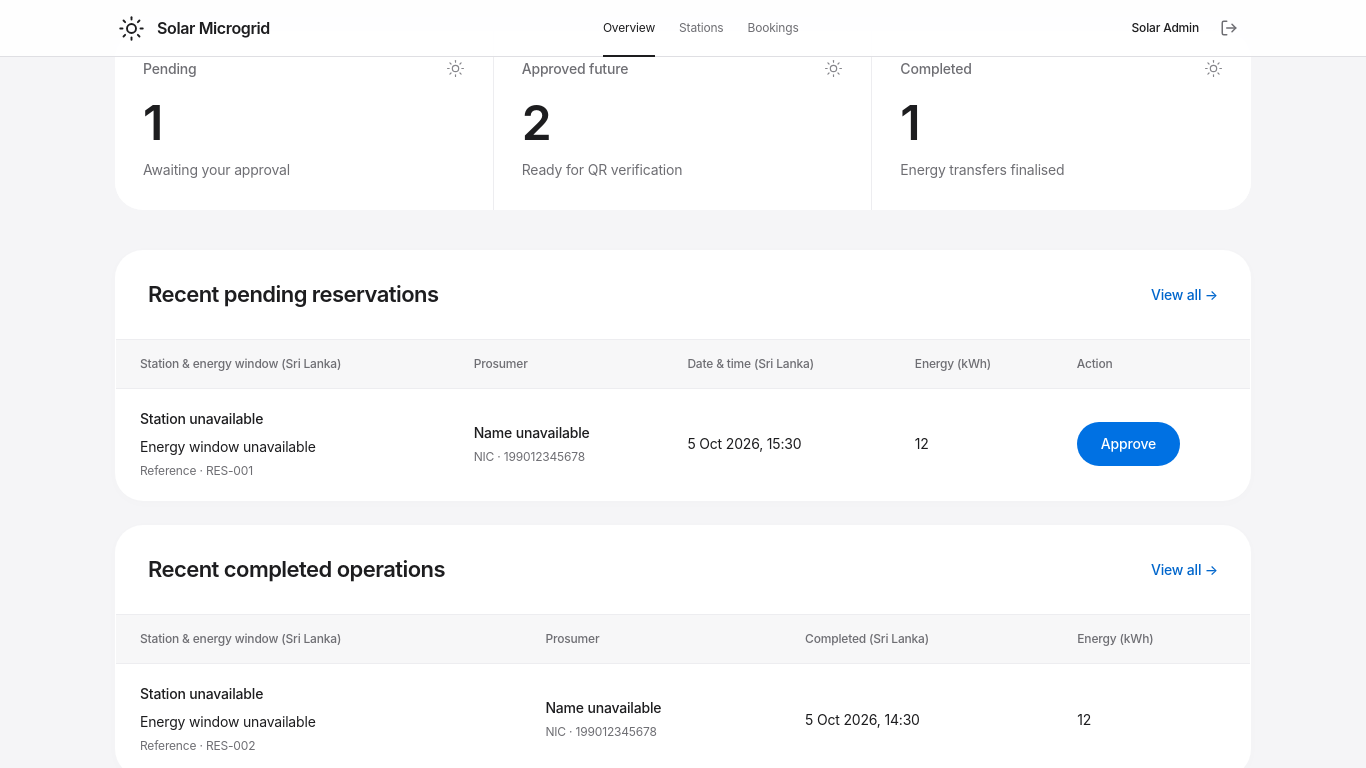
Test: React portal workflows › renders the operator dashboard and submits pending approval with antiforgery
(page scrolled)
expect the text "Reference · RES-001" is shown: met, box [140,463,253,478]
expect the text "Reference · RES-002" is shown: met, box [140,738,255,753]
Step 1. Click the button "Approve" → (1128, 444), box [1077,422,1180,466]
(page scrolled)
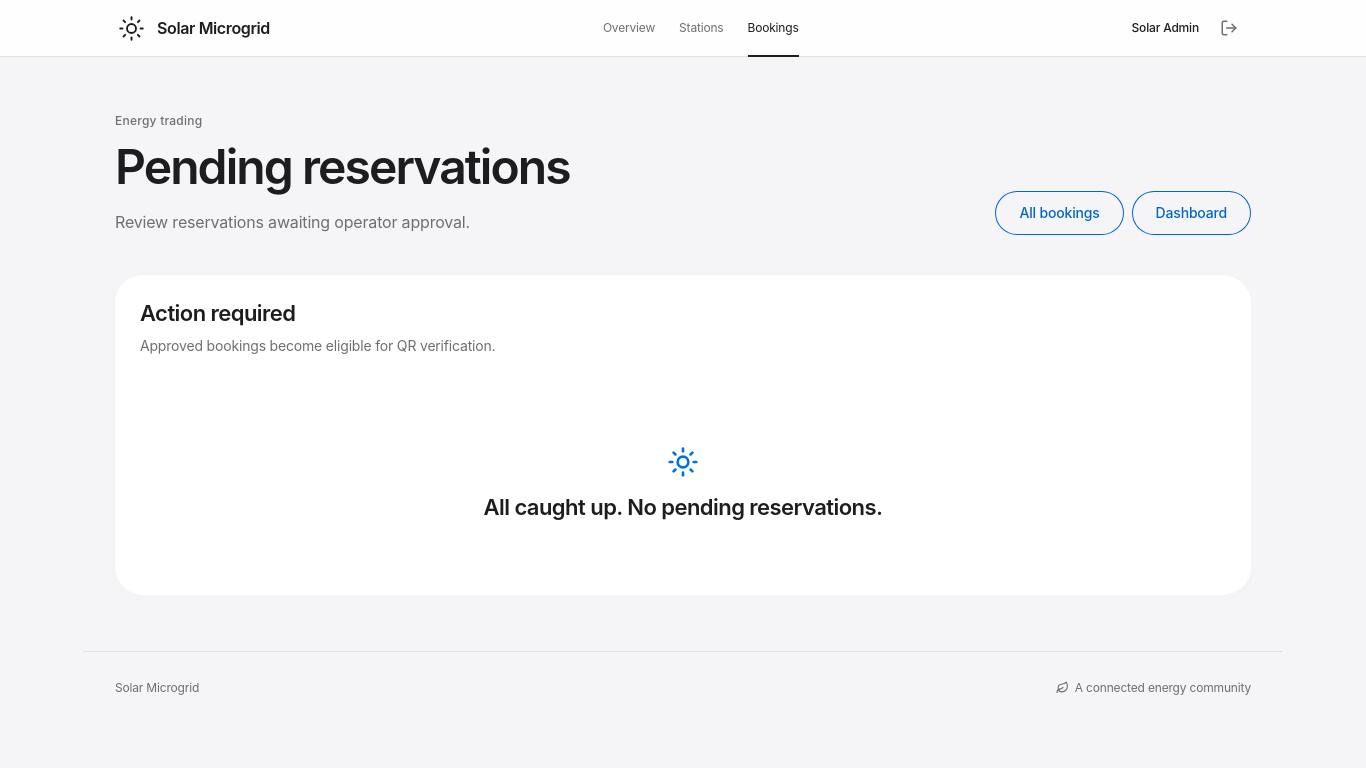
expect the heading "Pending reservations" is shown: met, box [115,141,570,193]
